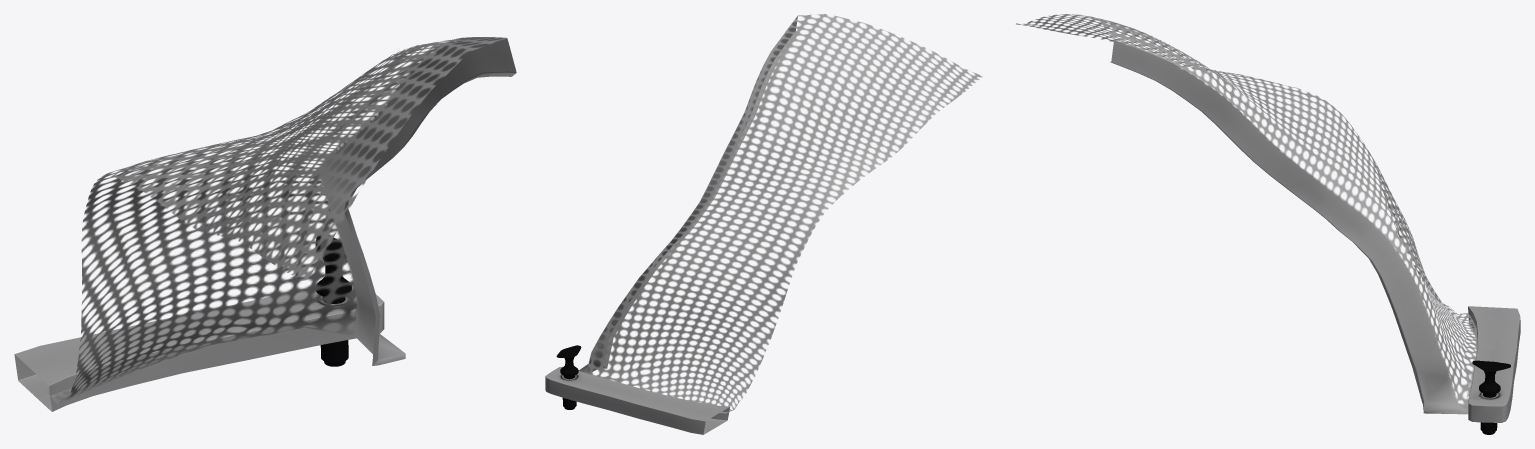
Rendered from right.glb.
The picture shows the model from 3 angles, left to right: view 1: azimuth 30°, elevation 25°; view 2: azimuth 150°, elevation 25°; view 3: azimuth 270°, elevation 25°; orthographic projection. The views are drawn at different scales.
Visible parts, largest first — view 1: mesh-0; view 2: mesh-0; view 3: mesh-0.
Boxes of the visible parts, box(x1,y1,x2,y2) form: mesh-0: box(14, 37, 516, 411); mesh-0: box(545, 14, 982, 434); mesh-0: box(1016, 14, 1520, 434).
Size of the model in its own units: 23.34 by 28.33 by 36.68.
Materials: 1 (1 with a texture image).
